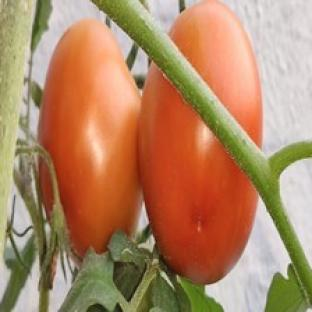Tomato: (140, 65, 257, 284), (38, 20, 140, 256)
